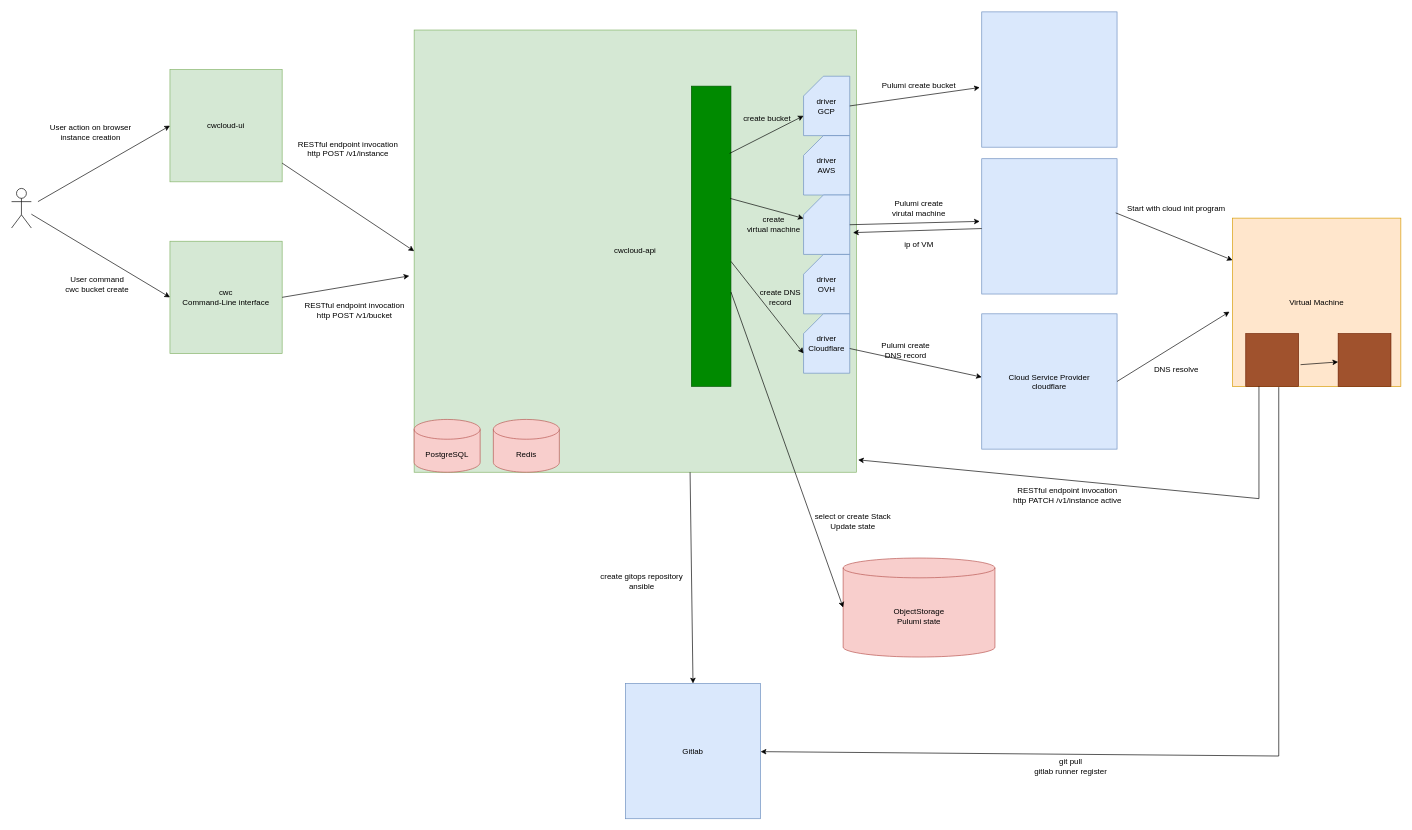
Some shapes in this 1412 by 830 pixel diagram are drawn without their labels. Each missing label, with the box of its shape:
ansible-playbook: (1337, 333, 1391, 386)
cloud init: (1245, 333, 1299, 386)
Cloud Service Provider GCP: (981, 11, 1117, 147)
Cloud Service Provider Scaleway: (981, 158, 1117, 294)
driver interface: (691, 85, 731, 386)
driver Scaleway: (803, 194, 850, 254)
user: (11, 188, 31, 228)
